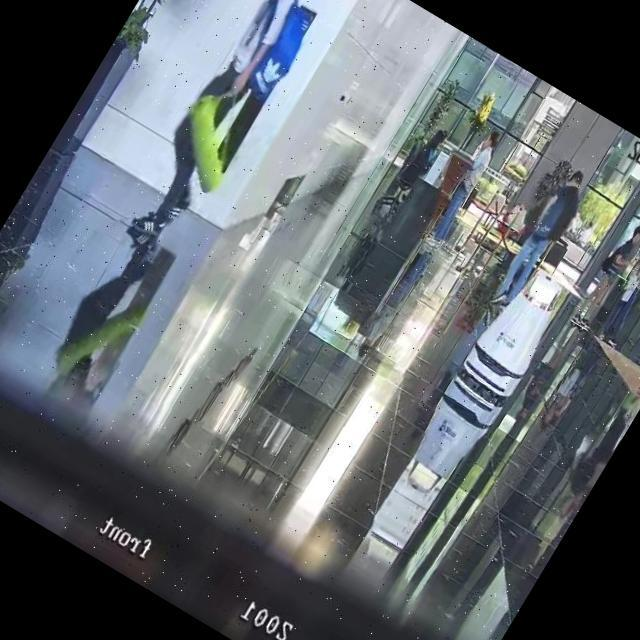person: (116, 0, 349, 255), (487, 163, 598, 317), (424, 126, 508, 249), (572, 219, 640, 328), (592, 242, 640, 344), (396, 124, 452, 196)
